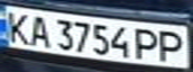3: (48, 16, 75, 52)
4: (109, 24, 133, 58)
5: (90, 20, 112, 56)
7: (69, 18, 93, 54)
A: (24, 12, 54, 47)
K: (0, 8, 36, 44)
P: (154, 28, 190, 63), (130, 25, 163, 61)
